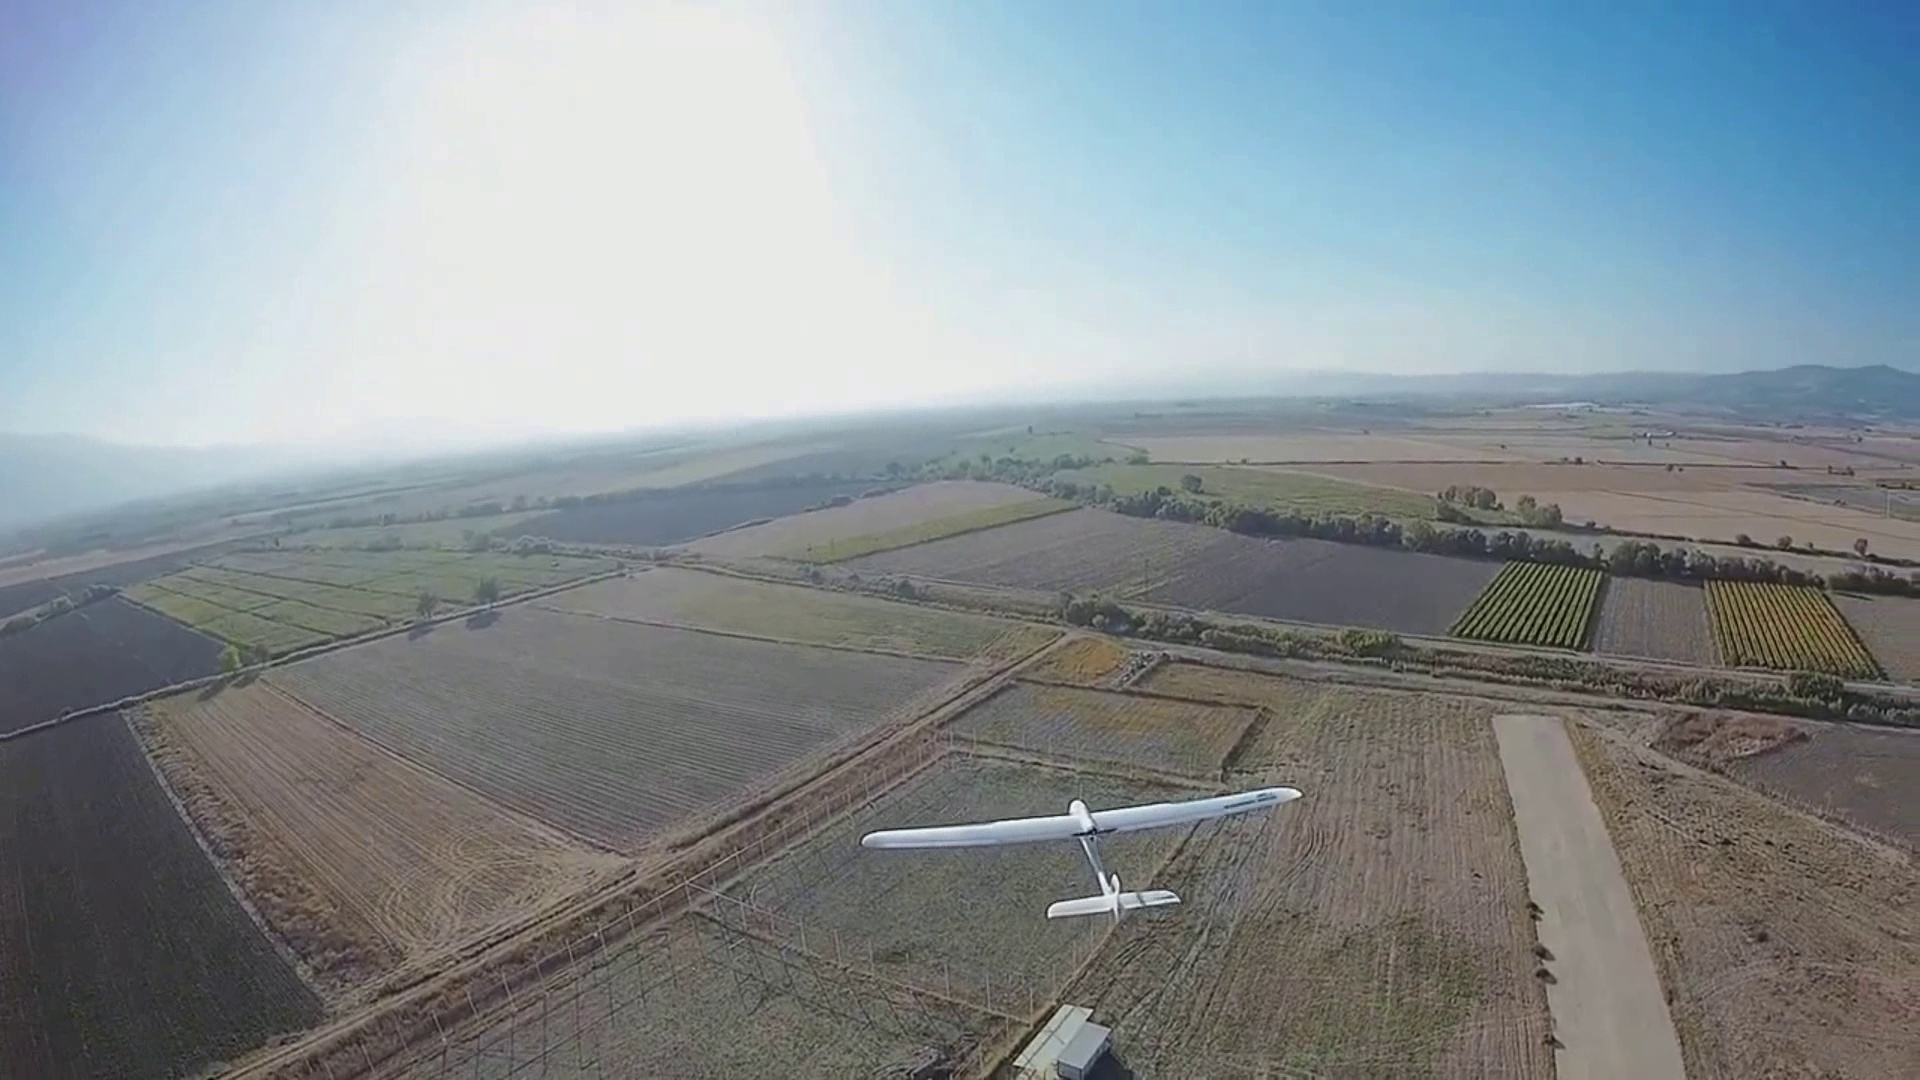airplane: (864, 786, 1299, 926)
